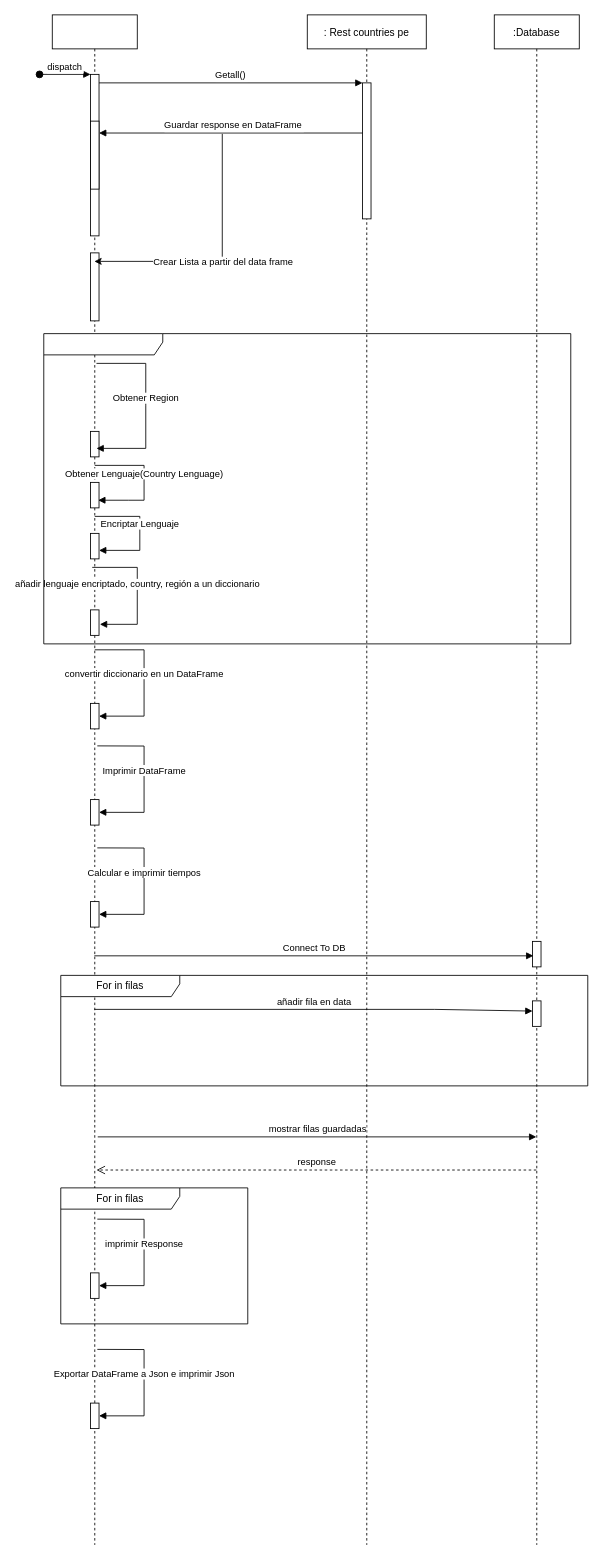
Some shapes in this 603 by 1560 pixel diagram are drawn without their labels. The shapes that lost their labels are listed below. From the top down, each one's centre as x and y in pixels, then its label:
At point (307, 488): "For in DataFrame".
At point (94, 779): ":Code".
